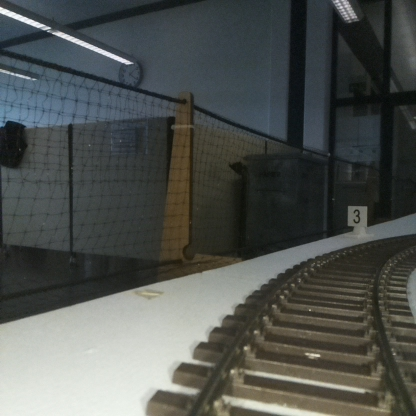white-stop-3: (348, 205, 367, 240)
